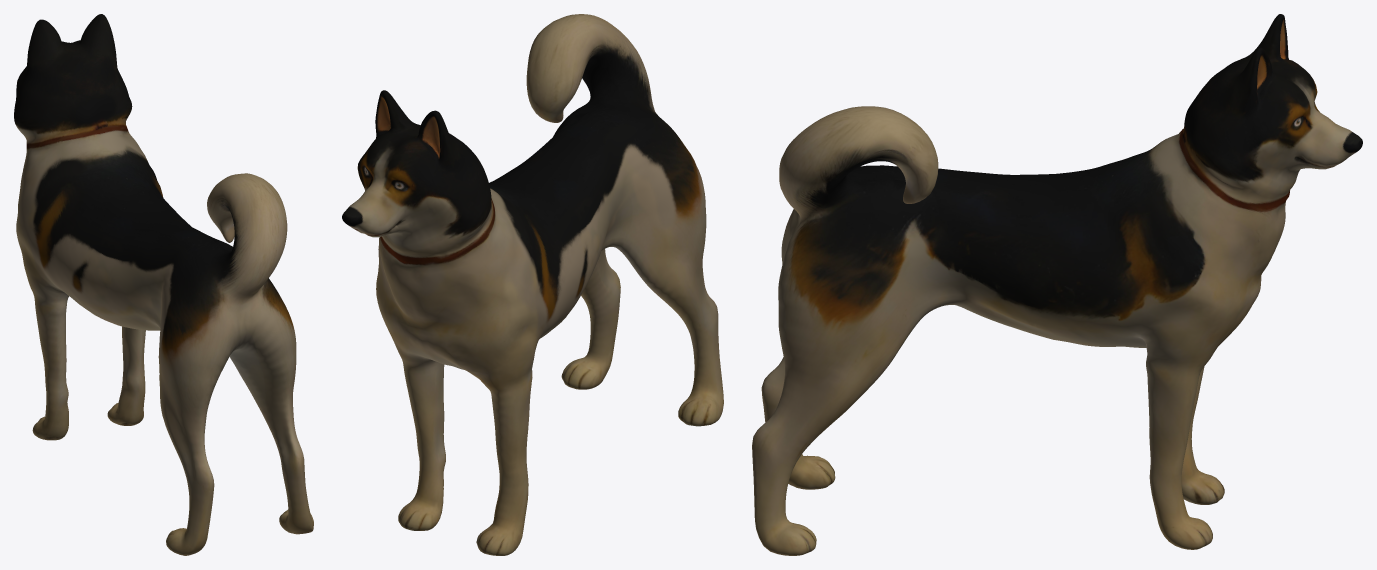
The model's file is Лайка Ризнич.gltf.
3 views of the same model, side by side, from view 1: azimuth 30°, elevation 25°; view 2: azimuth 150°, elevation 25°; view 3: azimuth 270°, elevation 25° (orthographic). The views are drawn at different scales.
Parts seen in each view (by area): view 1: tripo_node_2eb3bc24_1.1; view 2: tripo_node_2eb3bc24_1.1; view 3: tripo_node_2eb3bc24_1.1.
Boxes of the visible parts, x1=… form: tripo_node_2eb3bc24_1.1: x1=14, y1=14, x2=313, y2=555; tripo_node_2eb3bc24_1.1: x1=342, y1=14, x2=723, y2=555; tripo_node_2eb3bc24_1.1: x1=752, y1=14, x2=1362, y2=555.
Bounding box in the file's own units: 33.75 × 92.41 × 103.
Materials: 1 (1 with a texture image).
